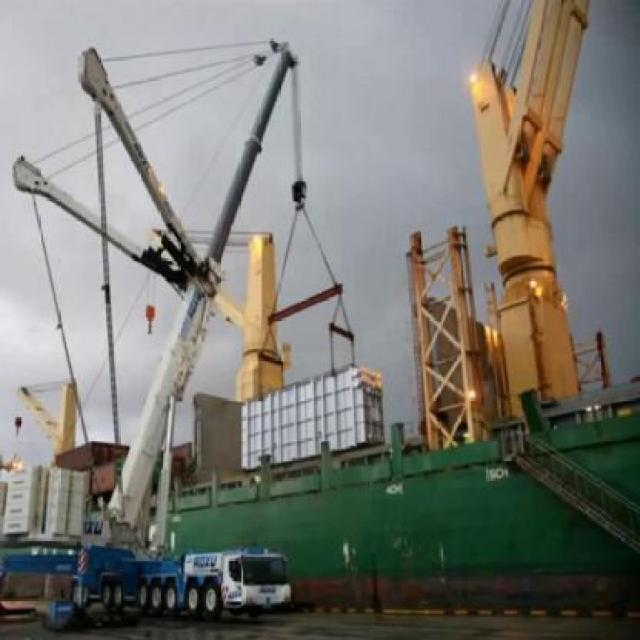Mobile Crane: (12, 44, 300, 622)
